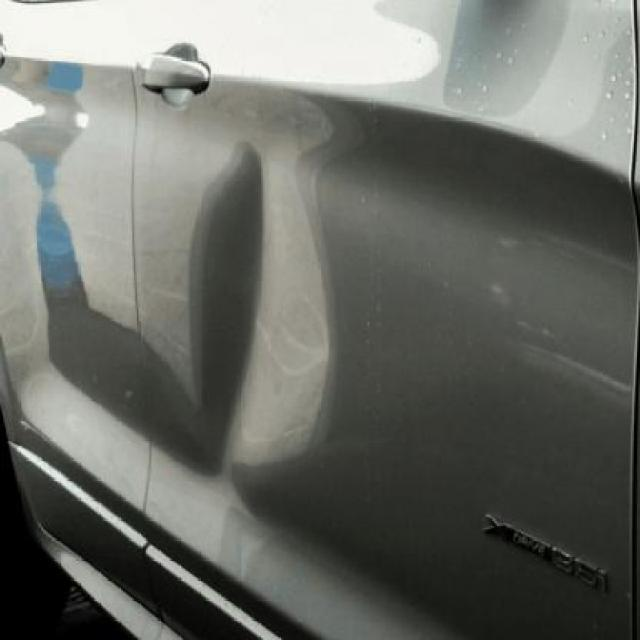dent: (188, 138, 335, 477)
